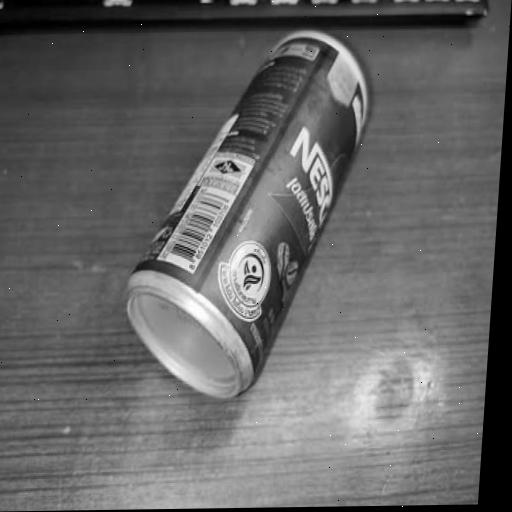canned: (108, 18, 383, 434)
